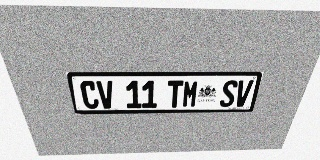1: (125, 81, 142, 108), (141, 80, 157, 108)
C: (79, 81, 100, 109)
M: (182, 80, 199, 108)
S: (219, 80, 239, 107)
T: (167, 80, 183, 108)
V: (233, 80, 254, 107), (96, 81, 115, 109)
